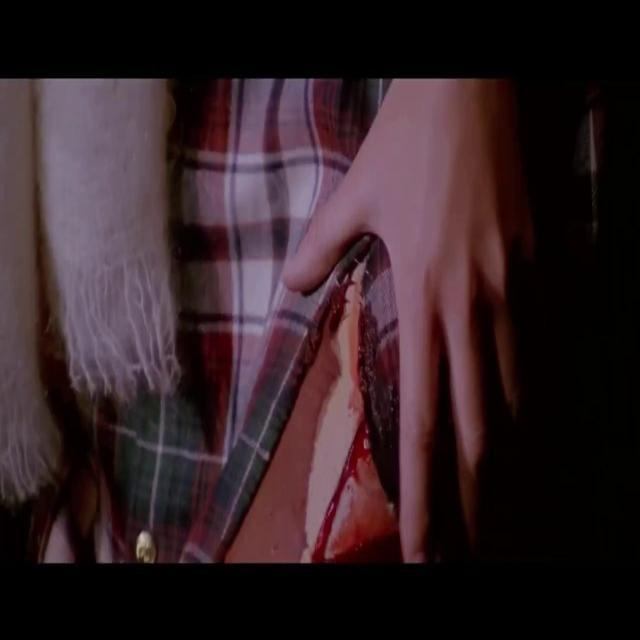flood: (314, 426, 366, 561)
